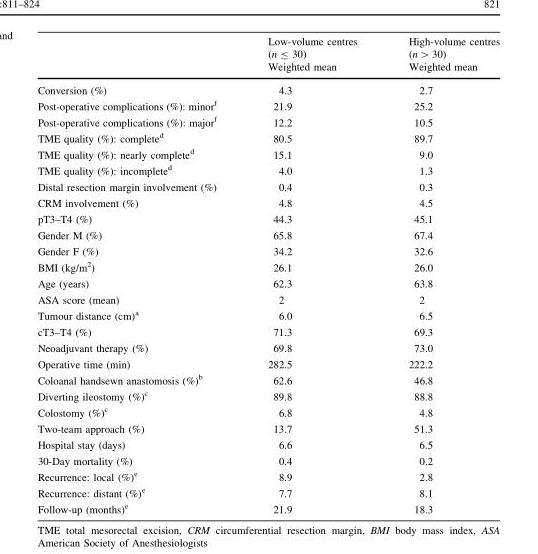table: (36, 36, 499, 514)
table column: (36, 36, 241, 514), (241, 36, 382, 514), (382, 36, 499, 514)
table column header: (36, 36, 499, 78)
table row: (36, 36, 499, 78), (36, 78, 499, 97), (36, 161, 499, 179), (36, 306, 499, 324), (36, 258, 499, 275), (36, 403, 499, 420), (36, 420, 499, 437), (36, 97, 499, 113), (36, 113, 499, 129), (36, 129, 499, 145), (36, 145, 499, 161), (36, 179, 499, 195), (36, 195, 499, 211), (36, 211, 499, 227), (36, 227, 499, 243), (36, 275, 499, 291), (36, 324, 499, 340), (36, 340, 499, 356), (36, 371, 499, 387), (36, 387, 499, 403), (36, 437, 499, 453), (36, 468, 499, 484), (36, 484, 499, 500), (36, 243, 499, 258), (36, 291, 499, 306), (36, 356, 499, 371), (36, 453, 499, 468), (36, 500, 499, 514)
